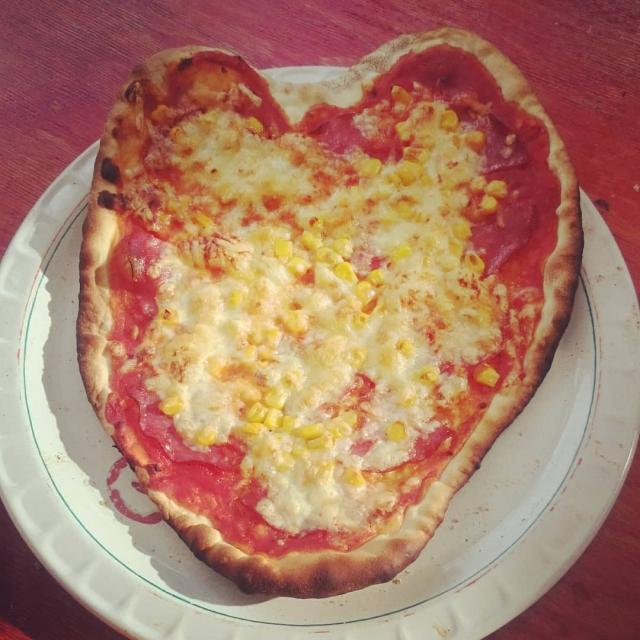pizza: (78, 29, 582, 598)
